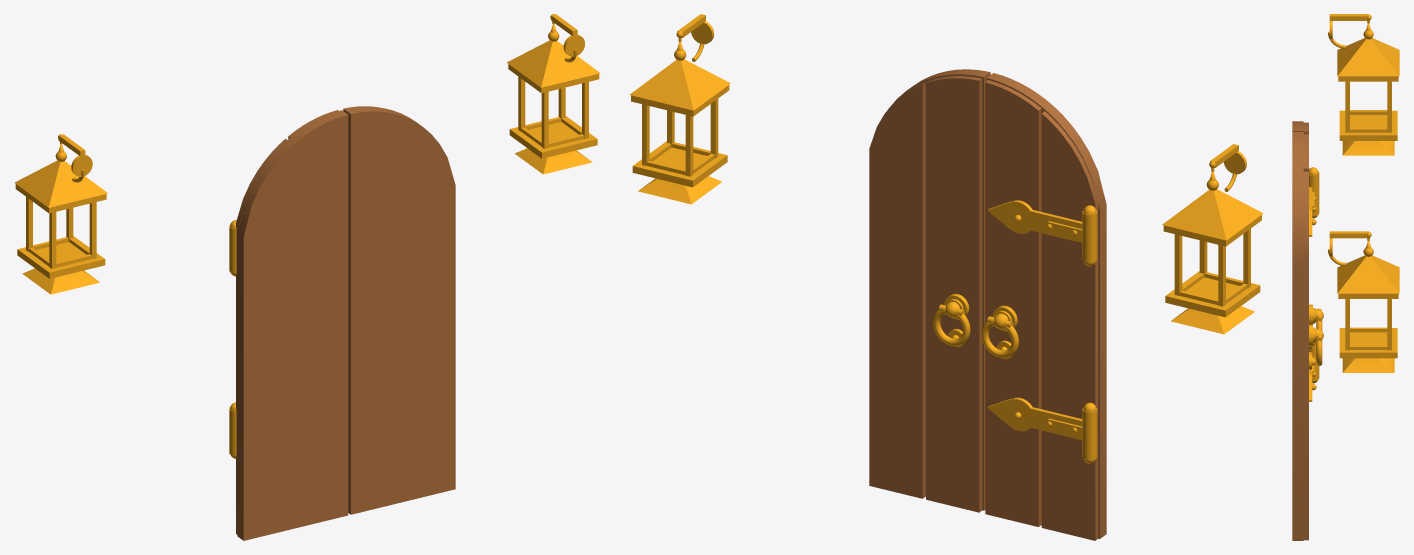
File: HaloDomeHouse_12_ornaments.glb
3 renders of one model, left to right at view 1: azimuth 30°, elevation 25°; view 2: azimuth 150°, elevation 25°; view 3: azimuth 270°, elevation 25°, orthographic. The views are drawn at different scales.
Parts seen in each view (by area): view 1: Orn_HaloDomeHouse_12_Leaf0, Orn_HaloDomeHouse_12_Leaf1, Orn_HaloDomeHouse_12_Lantern0, Orn_HaloDomeHouse_12_Lantern1; view 2: Orn_HaloDomeHouse_12_Leaf1, Orn_HaloDomeHouse_12_Leaf0, Orn_HaloDomeHouse_12_Lantern0, Orn_HaloDomeHouse_12_Lantern1, Orn_HaloDomeHouse_12_Hinge0, Orn_HaloDomeHouse_12_Hinge1, Orn_HaloDomeHouse_12_Knob0, Orn_HaloDomeHouse_12_Knob1; view 3: Orn_HaloDomeHouse_12_Leaf1, Orn_HaloDomeHouse_12_Lantern1, Orn_HaloDomeHouse_12_Lantern0, Orn_HaloDomeHouse_12_Hinge1, Orn_HaloDomeHouse_12_Knob1, Orn_HaloDomeHouse_12_Hinge0, Orn_HaloDomeHouse_12_Knob0, Orn_HaloDomeHouse_12_Leaf0.
Part boxes in pixels (left/top/right/bottom): Orn_HaloDomeHouse_12_Leaf0: left=236, top=110, right=348, bottom=540; Orn_HaloDomeHouse_12_Leaf1: left=343, top=106, right=455, bottom=514; Orn_HaloDomeHouse_12_Lantern0: left=14, top=134, right=107, bottom=294; Orn_HaloDomeHouse_12_Lantern1: left=507, top=14, right=600, bottom=174; Orn_HaloDomeHouse_12_Leaf1: left=869, top=69, right=990, bottom=512; Orn_HaloDomeHouse_12_Leaf0: left=985, top=73, right=1106, bottom=540; Orn_HaloDomeHouse_12_Lantern0: left=1162, top=144, right=1263, bottom=334; Orn_HaloDomeHouse_12_Lantern1: left=629, top=14, right=730, bottom=204; Orn_HaloDomeHouse_12_Hinge0: left=987, top=397, right=1097, bottom=463; Orn_HaloDomeHouse_12_Hinge1: left=987, top=200, right=1097, bottom=266; Orn_HaloDomeHouse_12_Knob0: left=981, top=305, right=1018, bottom=359; Orn_HaloDomeHouse_12_Knob1: left=933, top=293, right=970, bottom=347; Orn_HaloDomeHouse_12_Leaf1: left=1292, top=132, right=1308, bottom=540; Orn_HaloDomeHouse_12_Lantern1: left=1328, top=231, right=1399, bottom=372; Orn_HaloDomeHouse_12_Lantern0: left=1328, top=14, right=1399, bottom=155; Orn_HaloDomeHouse_12_Hinge1: left=1309, top=167, right=1319, bottom=236; Orn_HaloDomeHouse_12_Knob1: left=1309, top=324, right=1323, bottom=369; Orn_HaloDomeHouse_12_Hinge0: left=1309, top=342, right=1319, bottom=401; Orn_HaloDomeHouse_12_Knob0: left=1309, top=304, right=1323, bottom=349; Orn_HaloDomeHouse_12_Leaf0: left=1292, top=121, right=1308, bottom=134.
Size of the model in its own units: 11.1 by 7.88 by 2.07.
